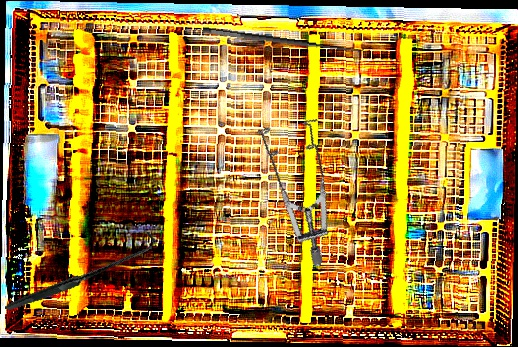Hook Surgical: (4, 198, 157, 345), (202, 13, 366, 59)
Speculum: (220, 101, 368, 270)
